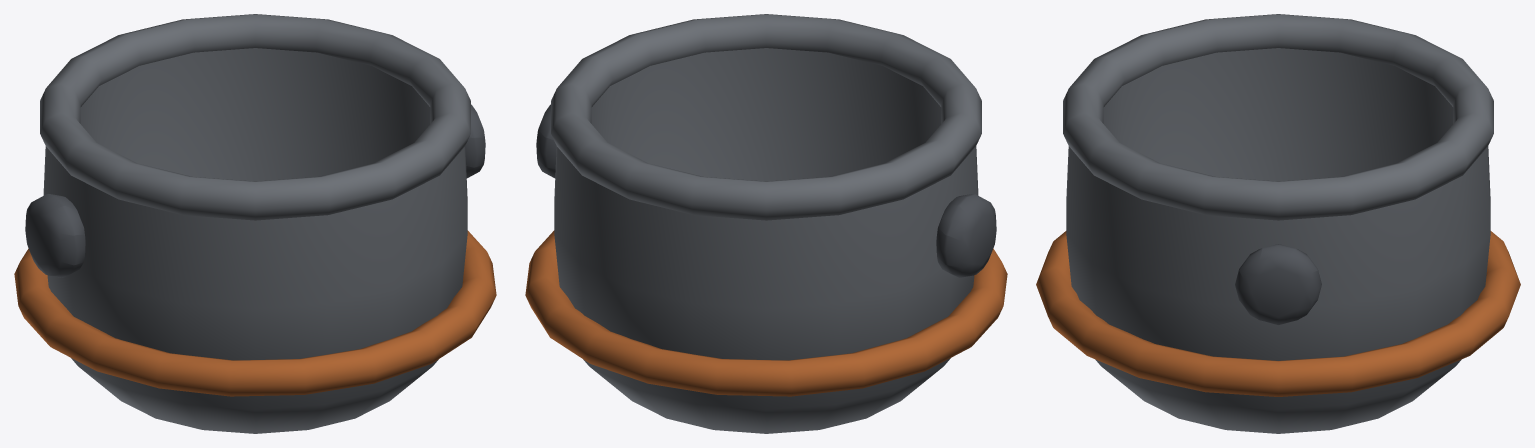
The model's file is pot.fbx.
3 views of the same model, side by side, from view 1: azimuth 30°, elevation 25°; view 2: azimuth 150°, elevation 25°; view 3: azimuth 270°, elevation 25° (orthographic).
Parts seen in each view (by area): view 1: pot; view 2: pot; view 3: pot.
Boxes of the visible parts, x1=… form: pot: x1=14, y1=14, x2=496, y2=433; pot: x1=525, y1=14, x2=1007, y2=433; pot: x1=1036, y1=14, x2=1520, y2=433.
Bounding box in the file's own units: 0.65 × 0.387 × 0.63.
